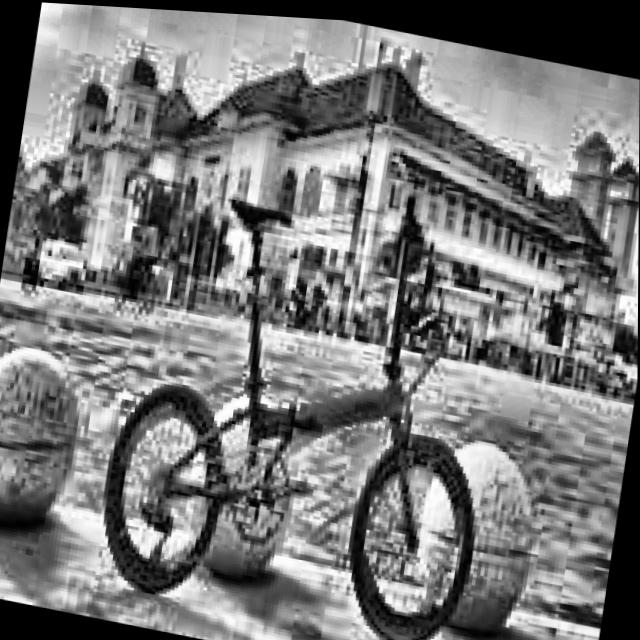bike: (91, 145, 532, 640)
